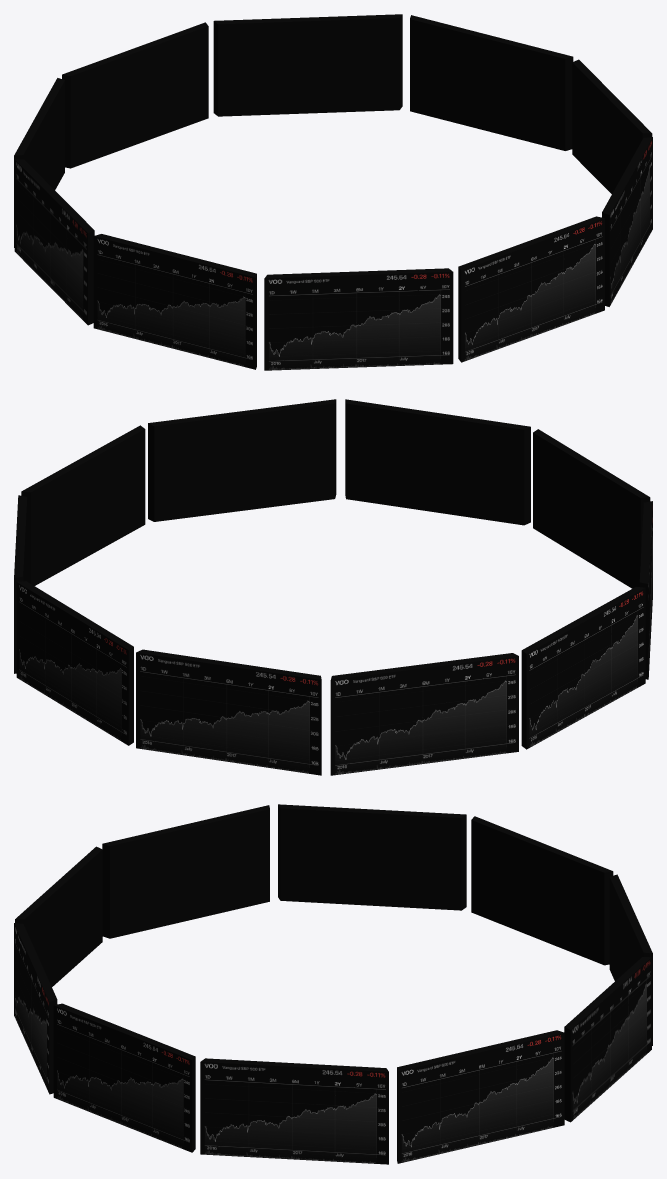
The model's file is Kiosk_screen_1.glb.
3 renders of one model, top to bottom at view 1: azimuth 30°, elevation 25°; view 2: azimuth 150°, elevation 25°; view 3: azimuth 270°, elevation 25°, orthographic. The views are drawn at different scales.
Visible parts, largest first — view 1: Cylinder.012; view 2: Cylinder.012; view 3: Cylinder.012.
Boxes of the visible parts, x1,y1,x2,y2 form: Cylinder.012: [14, 14, 652, 370]; Cylinder.012: [14, 399, 652, 775]; Cylinder.012: [14, 804, 652, 1164].
Bounding box in the file's own units: 0.0784 × 0.0126 × 0.0791.
3 materials, 1 textured.
